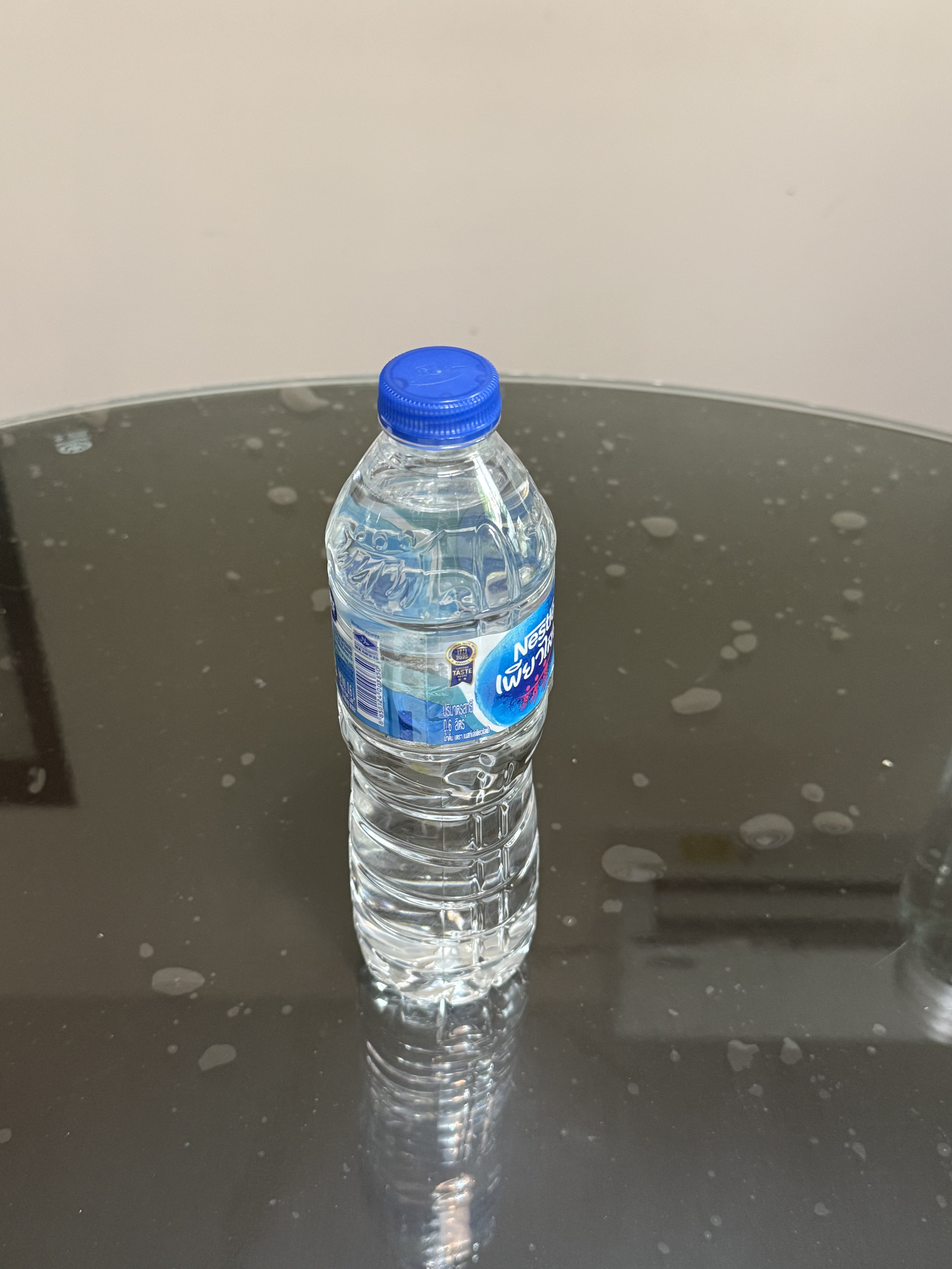closed_cap: (375, 342, 503, 447)
